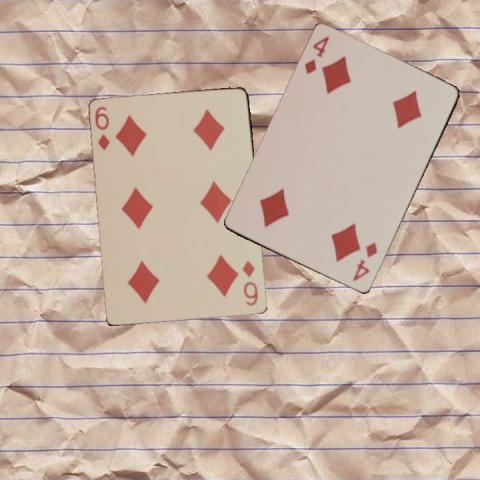4d: (350, 240, 380, 284), (302, 33, 332, 77)
6d: (240, 258, 260, 307), (92, 104, 111, 152)
